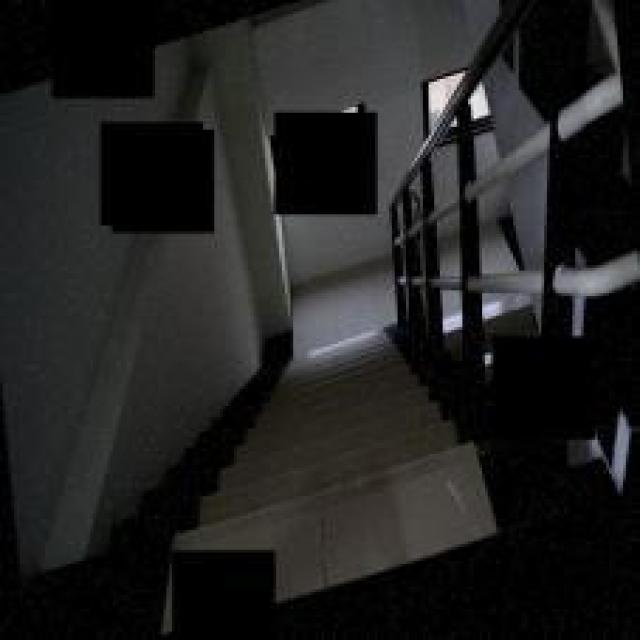downstair: (202, 351, 464, 526)
